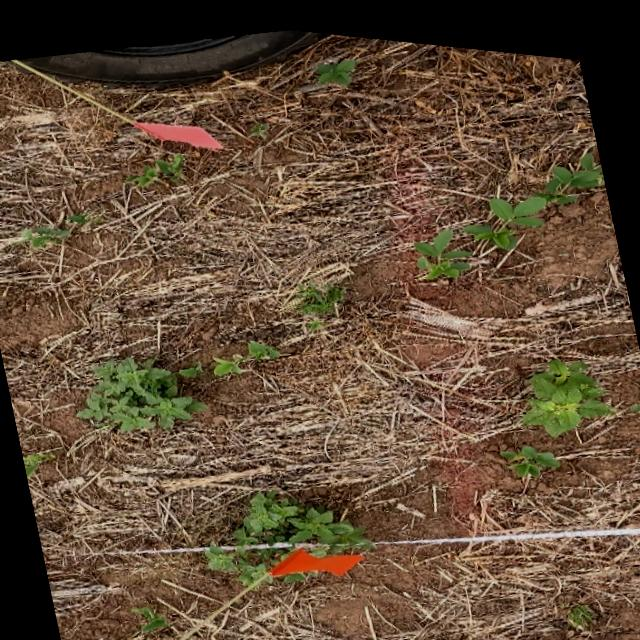caruru_weed: (76, 355, 205, 428), (232, 485, 371, 549), (522, 348, 612, 424), (205, 542, 291, 577), (294, 274, 344, 324)
grassy_weed: (565, 591, 594, 617)
soy_plant: (463, 141, 603, 238), (414, 218, 470, 270), (212, 335, 278, 371), (124, 149, 183, 183), (499, 434, 559, 466), (18, 225, 70, 247), (314, 52, 354, 77), (132, 605, 166, 629), (22, 453, 52, 477), (179, 357, 205, 373), (66, 213, 89, 222), (631, 387, 640, 396)
